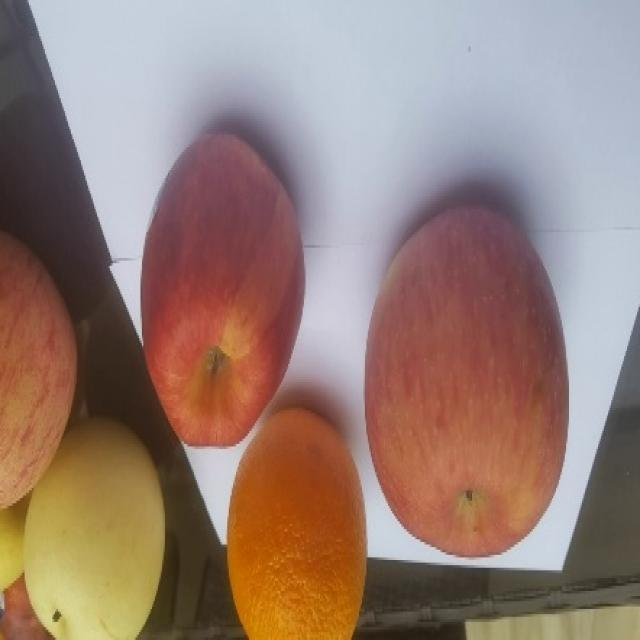Apple: (363, 203, 570, 558), (139, 128, 306, 447), (0, 229, 79, 509)
Orange: (225, 406, 368, 639)
